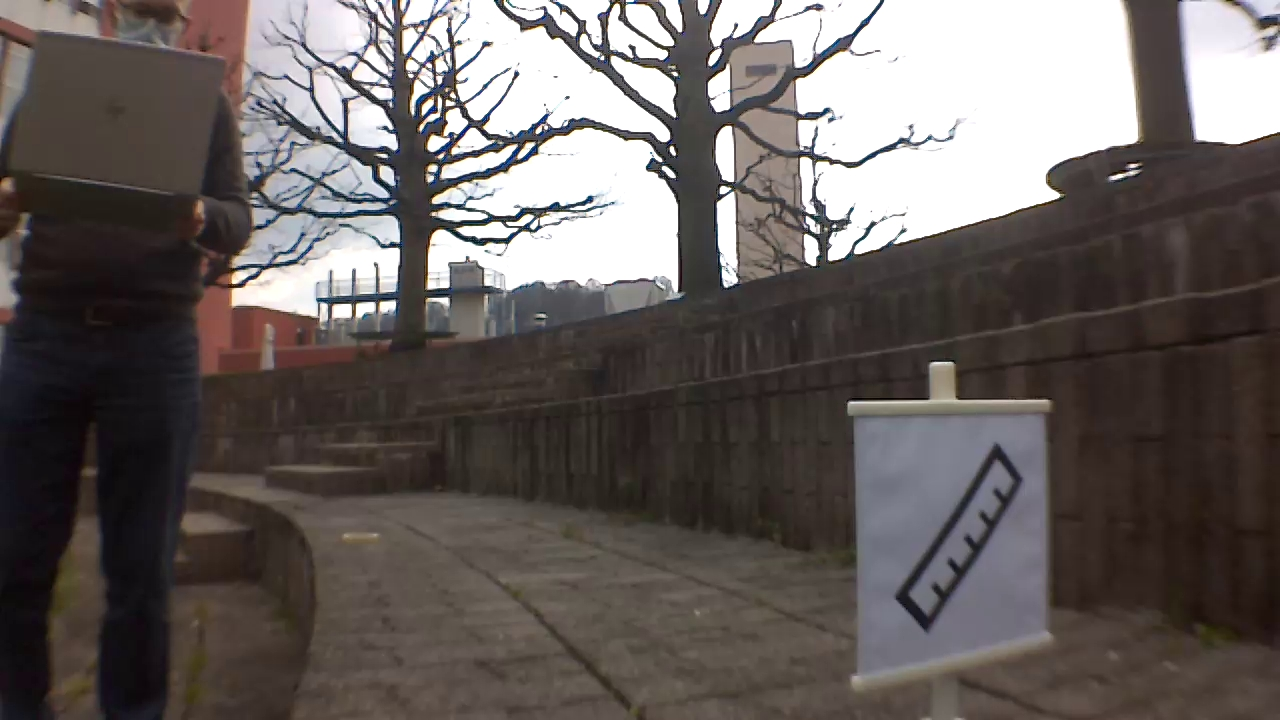ruler: (891, 440, 1035, 638)
